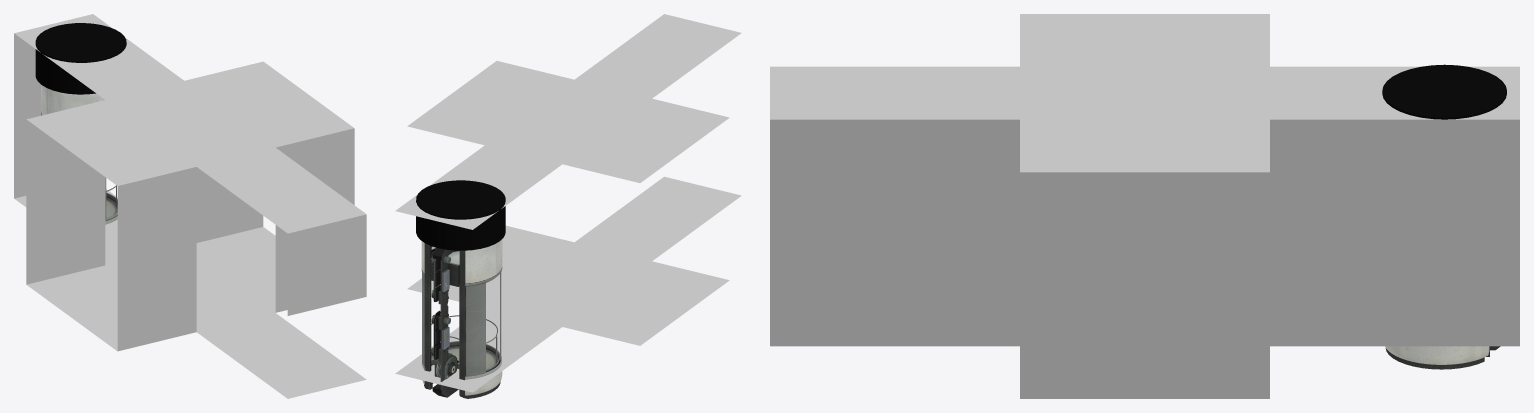
Rendered from corridor.glb.
3 views of the same model, side by side, from view 1: azimuth 30°, elevation 25°; view 2: azimuth 150°, elevation 25°; view 3: azimuth 270°, elevation 25° (orthographic). The views are drawn at different scales.
Visible parts, largest first — view 1: ceiling, wall, Cylinder, elevatorOBJ; view 2: ceiling, elevatorOBJ, Cylinder; view 3: wall, ceiling, Cylinder, elevatorOBJ.
Boxes of the visible parts, x1,y1,x2,y2 form: ceiling: [14, 14, 366, 398]; wall: [14, 33, 366, 351]; Cylinder: [35, 23, 126, 94]; elevatorOBJ: [41, 85, 117, 224]; ceiling: [395, 14, 741, 392]; elevatorOBJ: [421, 239, 502, 398]; Cylinder: [416, 180, 505, 250]; wall: [770, 119, 1519, 398]; ceiling: [770, 14, 1519, 172]; Cylinder: [1382, 64, 1506, 119]; elevatorOBJ: [1385, 346, 1500, 369].
Size of what is drawn, in the model's own units: 6 by 4.52 by 12.
Materials: 5 (4 with a texture image).
